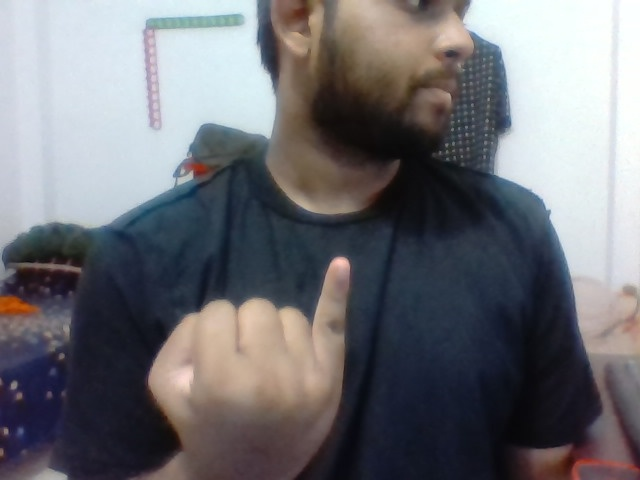I: (137, 245, 362, 465)
